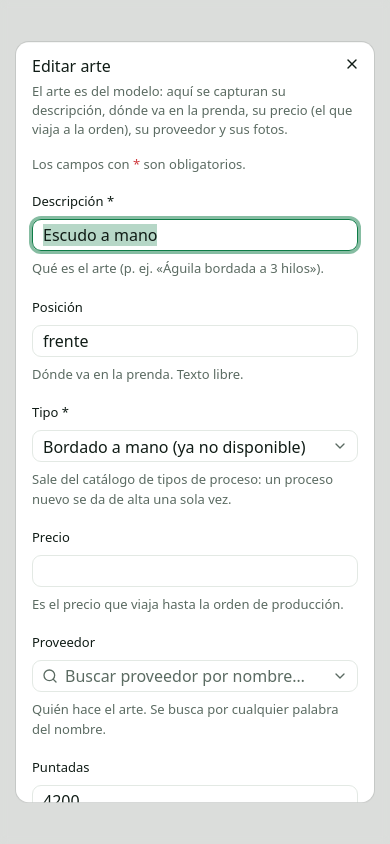
Test: <DialogoArte> — la captura del arte (V1-E3f) › ⭐ un TIPO retirado del catálogo NO se pierde al editar: se inyecta como opción
Select "Estampado" in the dropdown with test id "arte-tipo" at point(195, 446), box x1=32 y1=430 x2=358 y2=462
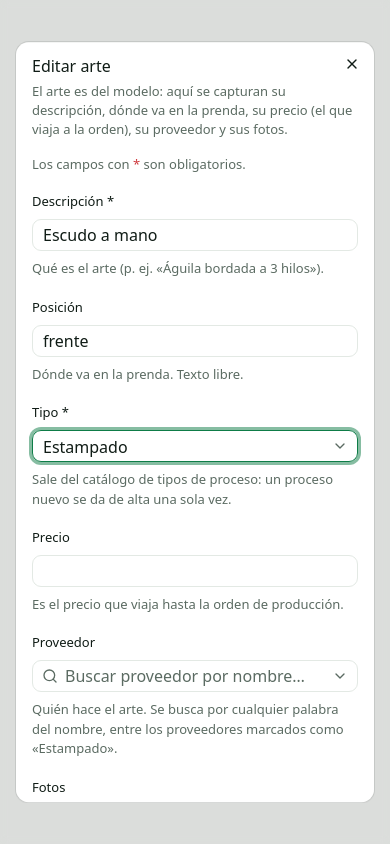
Result: the label with test id "arte-puntadas" is gone
